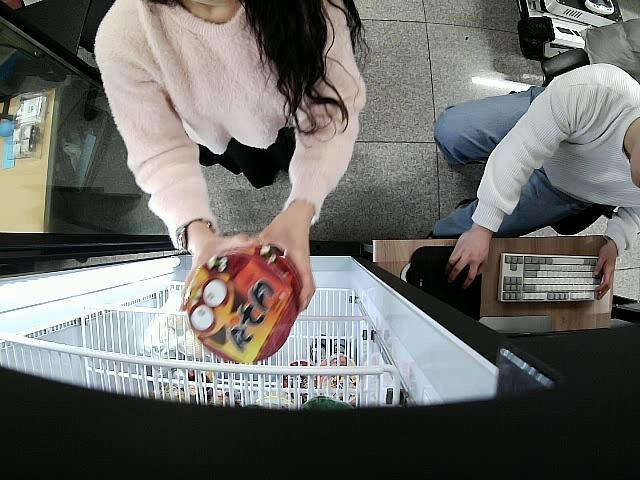05_nuguri_L: (186, 252, 298, 360)
